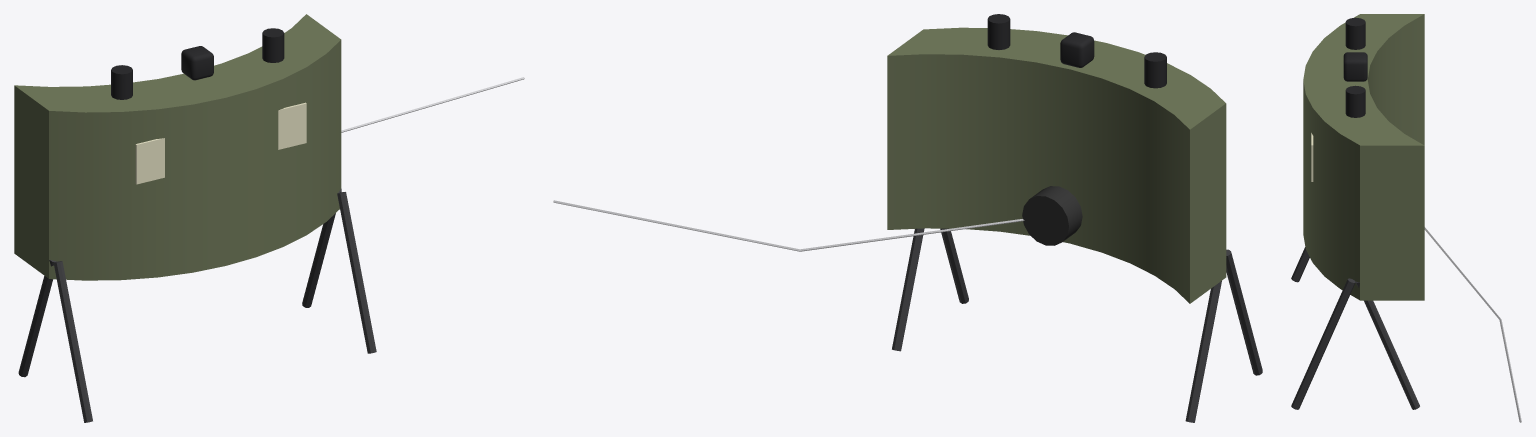
File: SM_TripMine.fbx
3 renders of one model, left to right at view 1: azimuth 30°, elevation 25°; view 2: azimuth 150°, elevation 25°; view 3: azimuth 270°, elevation 25°, orthographic. The views are drawn at different scales.
Parts seen in each view (by area): view 1: SM_TripMine; view 2: SM_TripMine; view 3: SM_TripMine.
Boxes of the visible parts, <box> form: SM_TripMine: <box>14,14,524,422</box>; SM_TripMine: <box>553,14,1262,422</box>; SM_TripMine: <box>1291,14,1521,422</box>.
Bounding box in the file's own units: 0.1147 × 0.2974 × 0.1586.
